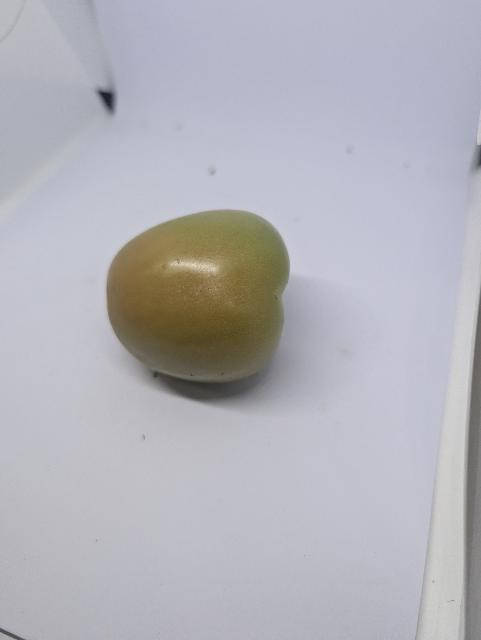breaker: (104, 207, 296, 388)
